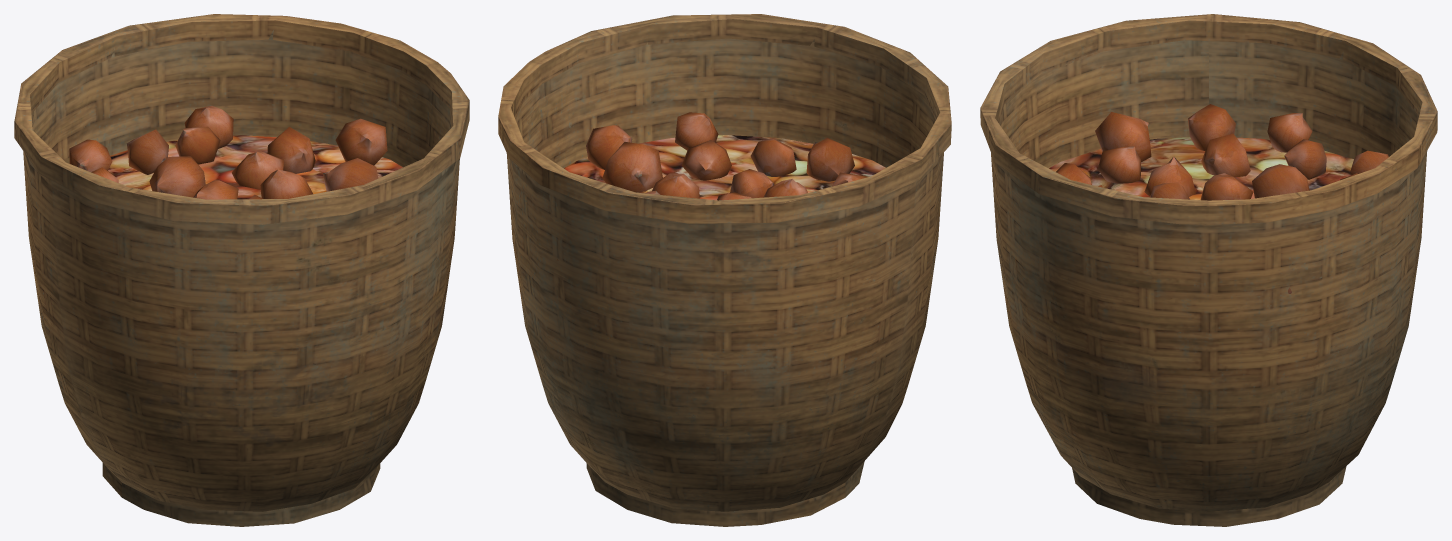
The model's file is SM_basket_onion_01.fbx.
3 views of the same model, side by side, from view 1: azimuth 30°, elevation 25°; view 2: azimuth 150°, elevation 25°; view 3: azimuth 270°, elevation 25° (orthographic).
Parts seen in each view (by area): view 1: SM_basket_onion_01_LOD0; view 2: SM_basket_onion_01_LOD0; view 3: SM_basket_onion_01_LOD0.
Boxes of the visible parts, bbox=[...] form: SM_basket_onion_01_LOD0: bbox=[14, 14, 469, 526]; SM_basket_onion_01_LOD0: bbox=[498, 14, 951, 526]; SM_basket_onion_01_LOD0: bbox=[980, 14, 1437, 526].
Bounding box in the file's own units: 64.86 × 65.26 × 56.3.
Materials: 3 (3 with a texture image).
